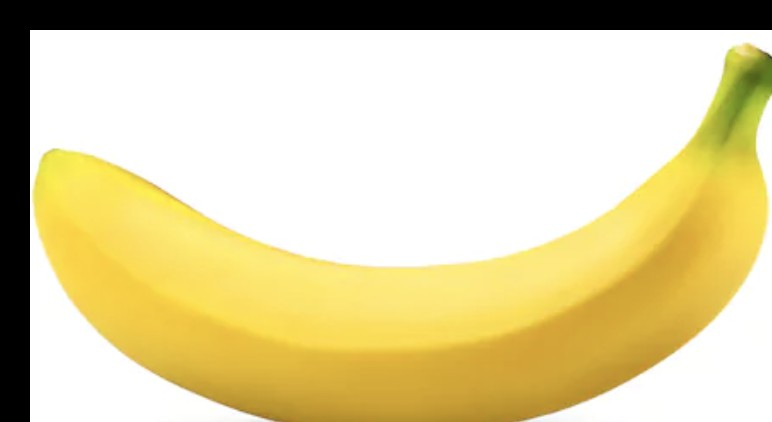fresh_banana: (32, 43, 772, 422)
